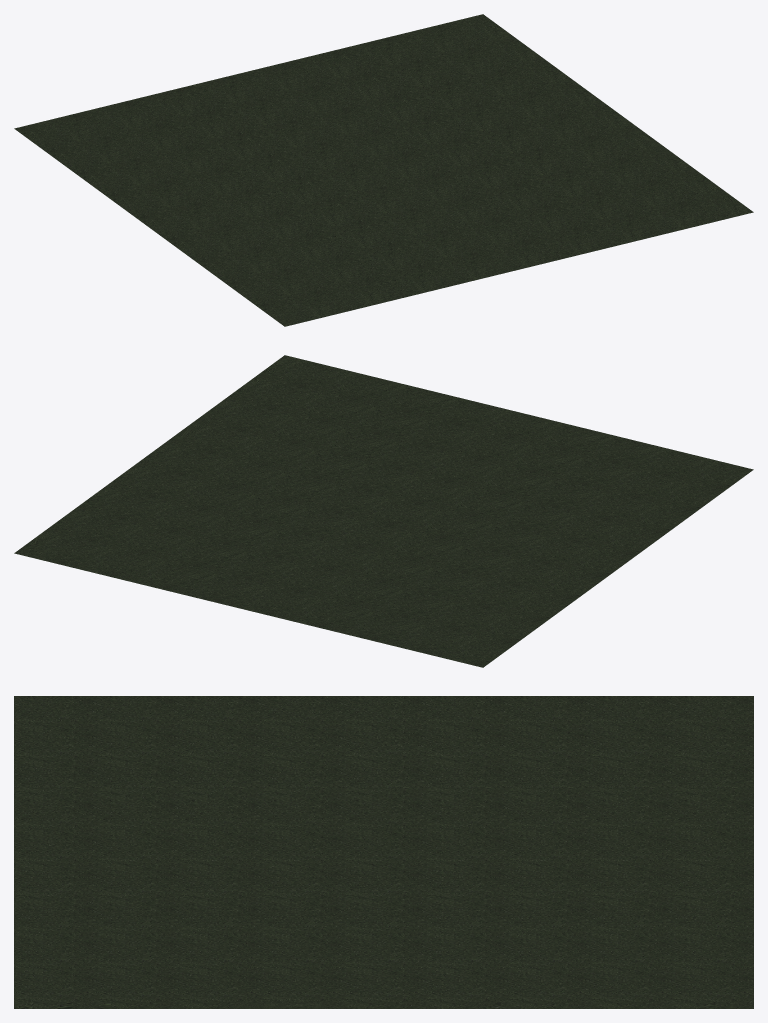
Rendered from SM_EC_Ground_Tile_03.fbx.
3 renders of one model, top to bottom at view 1: azimuth 30°, elevation 25°; view 2: azimuth 150°, elevation 25°; view 3: azimuth 270°, elevation 25°, orthographic. The views are drawn at different scales.
Parts seen in each view (by area): view 1: SM_EC_Ground_Tile_03; view 2: SM_EC_Ground_Tile_03; view 3: SM_EC_Ground_Tile_03.
Boxes of the visible parts, x1,y1,x2,y2 form: SM_EC_Ground_Tile_03: (14, 14, 753, 326); SM_EC_Ground_Tile_03: (14, 355, 753, 667); SM_EC_Ground_Tile_03: (14, 696, 753, 1008).
Size of the model in its own units: 37.5 by 37.5 by 0.
